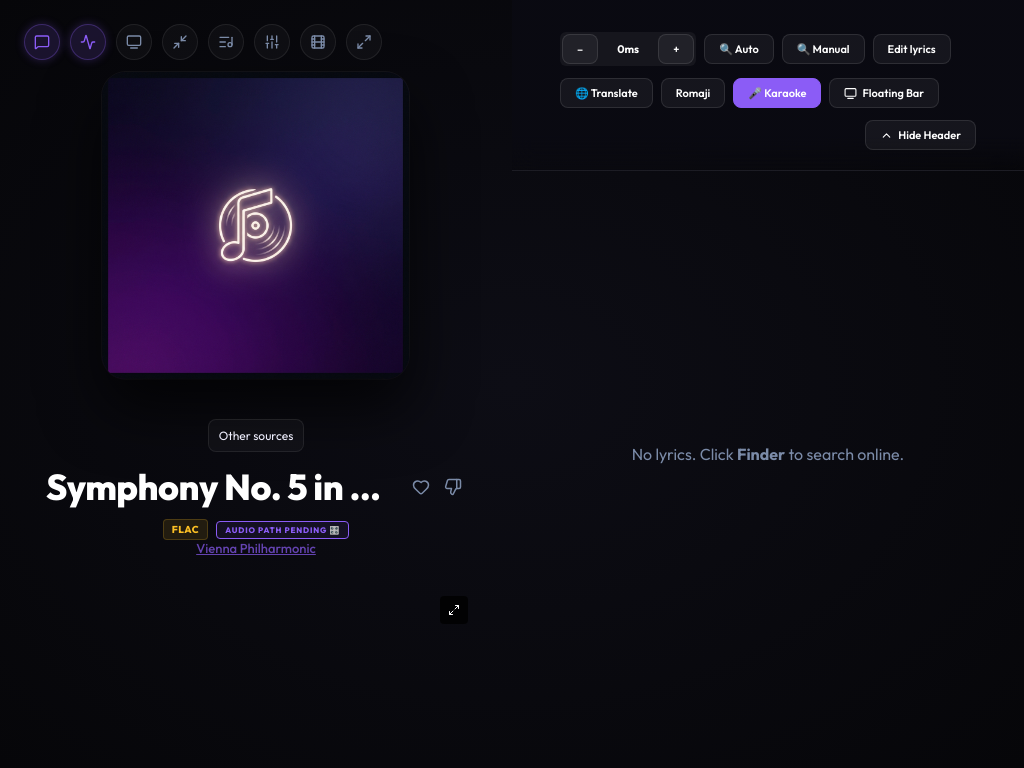
Test: NowPlayingView Interactive Artwork & Specs Overlay › shows expanded track and playback details in the artwork info panel
Click the button named "Inspect track": coordinates (256, 226) [102,72,410,379]
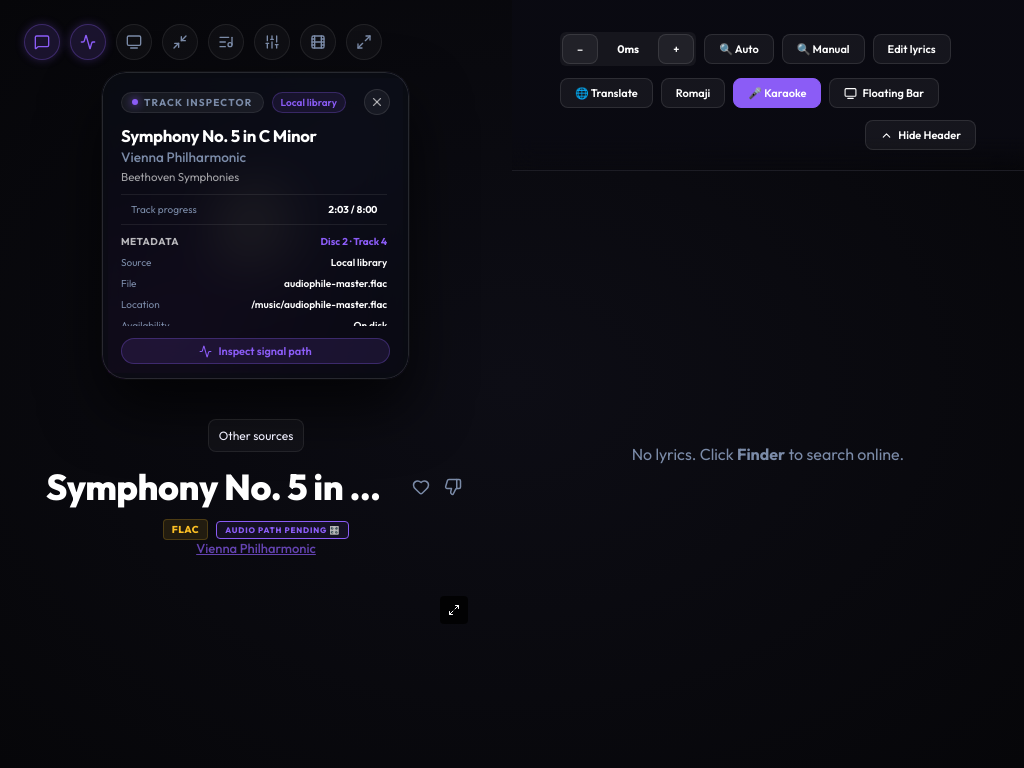
Now the element with class "np-art-overlay" is shown, box [102,72,410,379]
Now the text "Disc 2 · Track 4" is shown, box [321,235,388,248]
Now the text "2:03 / 8:00" is shown, box [329,203,378,216]
